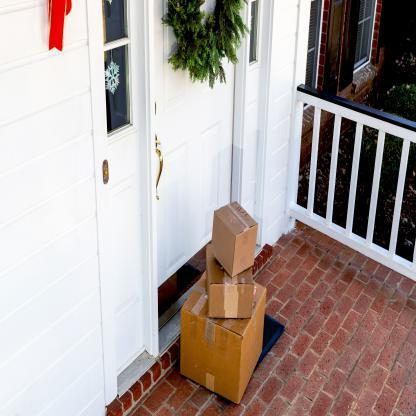package: (176, 285, 270, 405), (208, 198, 259, 279), (204, 269, 256, 320)
